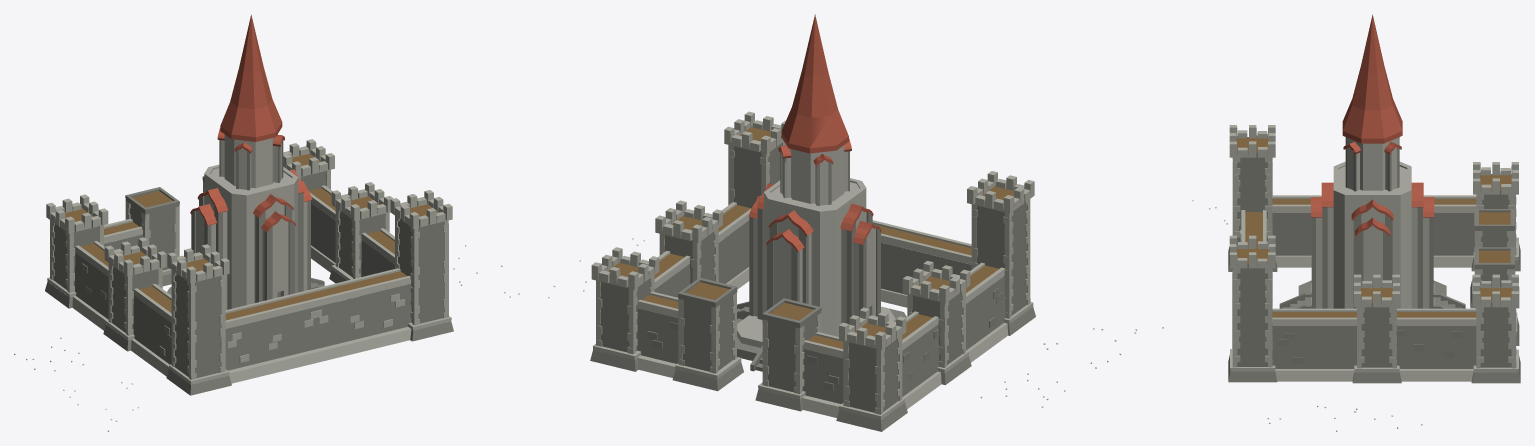
File: chunk_1_0.glb
3 renders of one model, left to right at view 1: azimuth 30°, elevation 25°; view 2: azimuth 150°, elevation 25°; view 3: azimuth 270°, elevation 25°, orthographic. The views are drawn at different scales.
Visible parts, largest first — view 1: WonderWalls_SecondAge, Temple_SecondAge_Level2; view 2: WonderWalls_SecondAge, Temple_SecondAge_Level2; view 3: WonderWalls_SecondAge, Temple_SecondAge_Level2.
Boxes of the visible parts, bbox=[...] form: WonderWalls_SecondAge: bbox=[45, 139, 453, 395]; Temple_SecondAge_Level2: bbox=[167, 14, 324, 309]; WonderWalls_SecondAge: bbox=[590, 111, 1035, 431]; Temple_SecondAge_Level2: bbox=[737, 14, 906, 371]; WonderWalls_SecondAge: bbox=[1228, 125, 1520, 383]; Temple_SecondAge_Level2: bbox=[1279, 14, 1465, 308].
Size of the model in its own units: 88.17 by 53.88 by 52.94.
